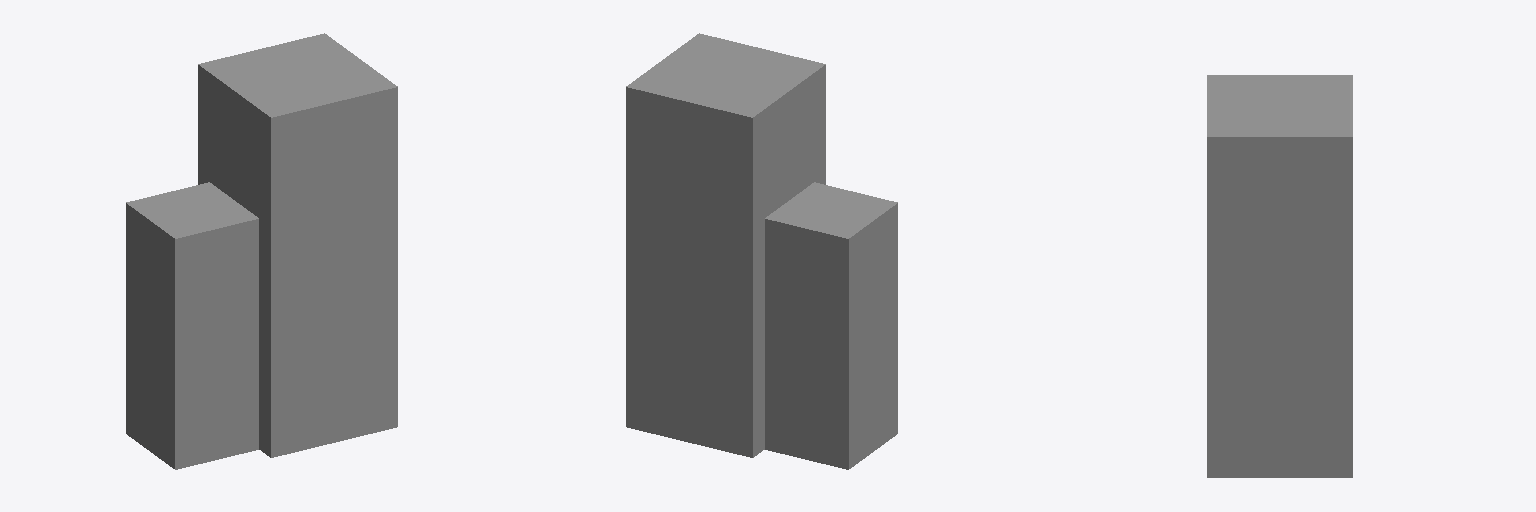
Rendered from Crystal2.obj.
3 renders of one model, left to right at view 1: azimuth 30°, elevation 25°; view 2: azimuth 150°, elevation 25°; view 3: azimuth 270°, elevation 25°, orthographic.
Visible parts, largest first — view 1: Crystal1_Cube, Crystal1.001_Cube.005; view 2: Crystal1_Cube, Crystal1.001_Cube.005; view 3: Crystal1_Cube.
Boxes of the visible parts, <box> form: Crystal1_Cube: <box>198,33,397,457</box>; Crystal1.001_Cube.005: <box>126,182,258,469</box>; Crystal1_Cube: <box>626,33,825,457</box>; Crystal1.001_Cube.005: <box>765,182,897,469</box>; Crystal1_Cube: <box>1207,75,1352,477</box>.
Size of the model in its own units: 0.3244 by 0.5 by 0.1952.